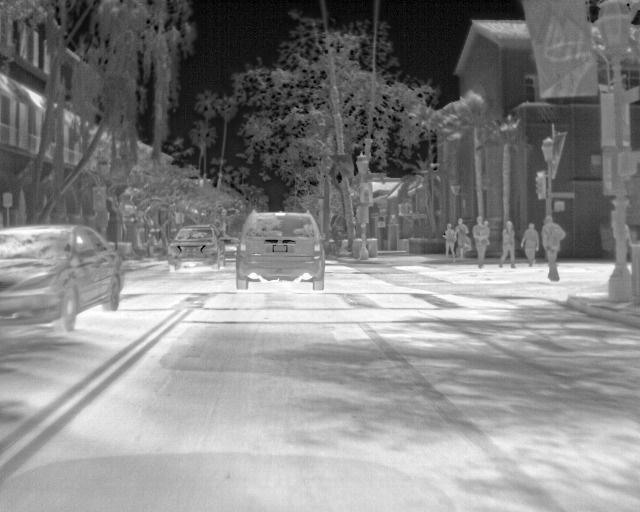bicycle: (1, 222, 126, 335), (234, 207, 327, 292), (166, 223, 222, 273), (219, 236, 240, 260)
empty: (541, 213, 565, 279), (499, 220, 520, 269), (472, 214, 491, 268), (521, 222, 540, 270), (454, 217, 469, 262), (445, 222, 459, 257)
